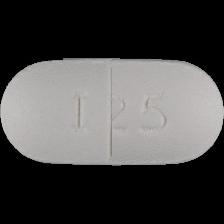0143-9130: (0, 0, 224, 224)
